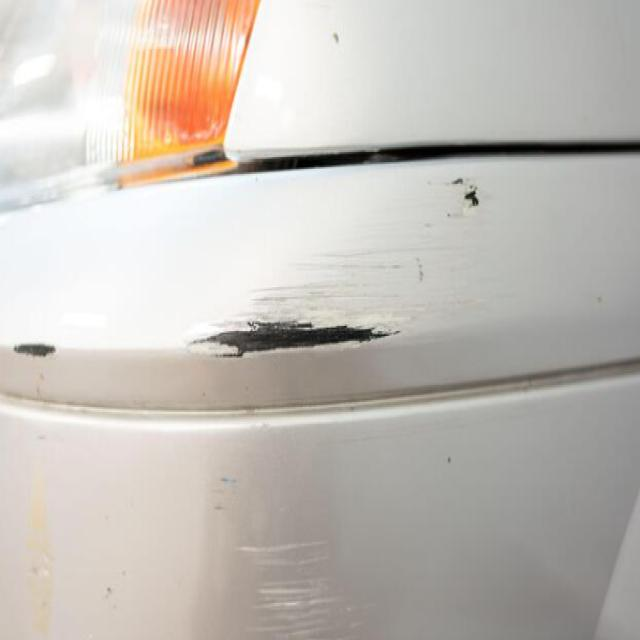scratch: (182, 239, 473, 363), (230, 537, 384, 639), (420, 174, 484, 231), (8, 339, 58, 365)
